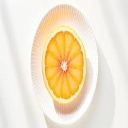orange: (39, 23, 88, 106)
